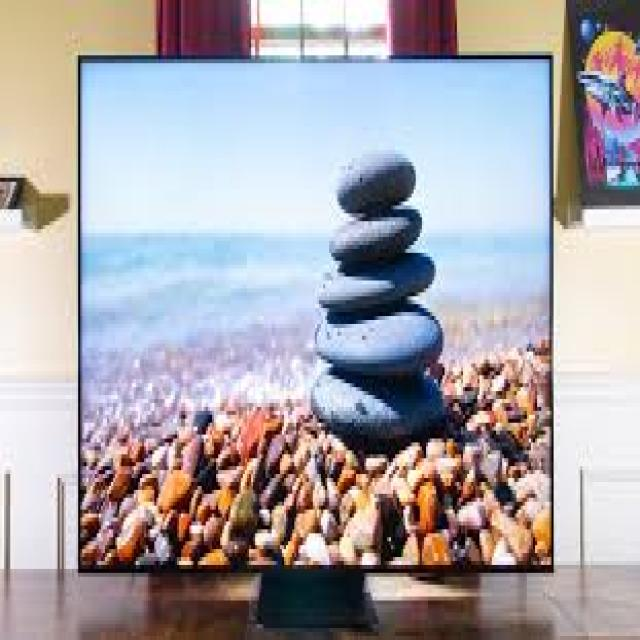tv: (80, 51, 557, 575)
